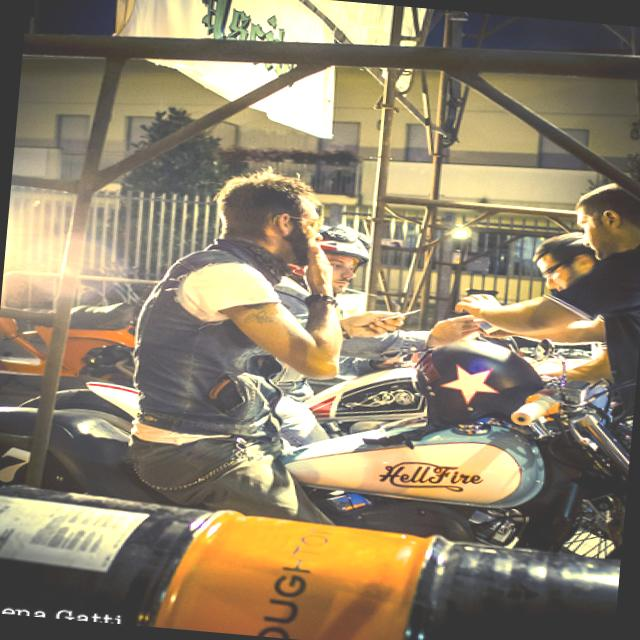Vehicle: (0, 291, 638, 561), (15, 334, 422, 447), (44, 296, 140, 382)
